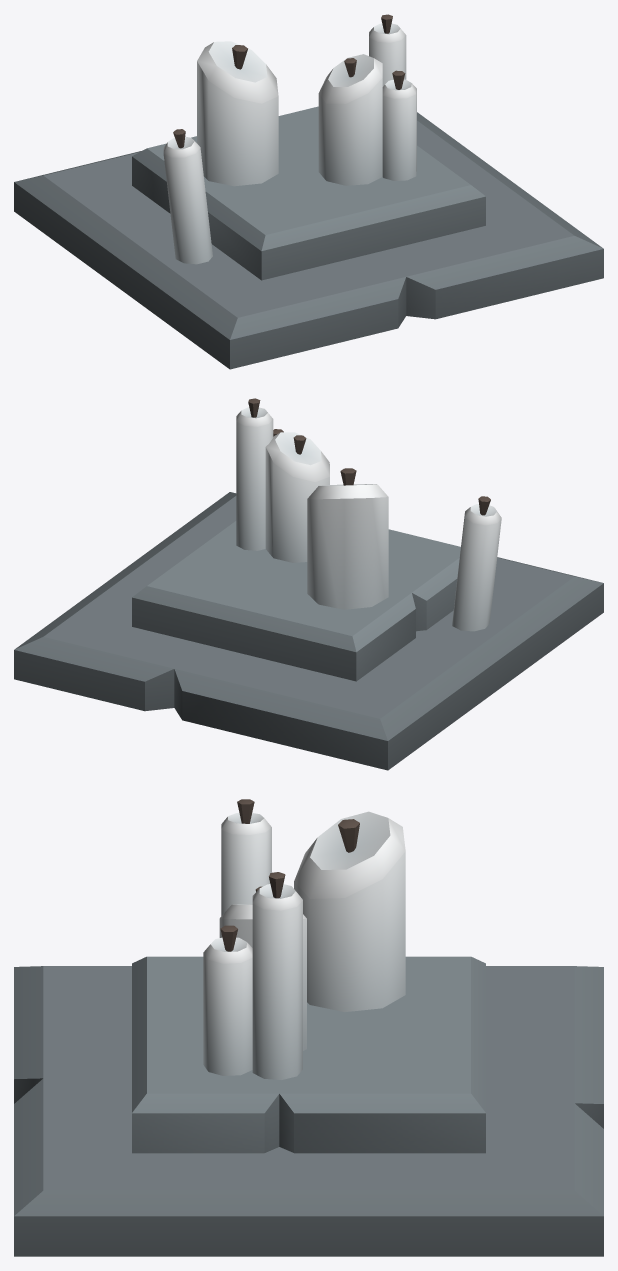
File: candelabra.glb
3 renders of one model, top to bottom at view 1: azimuth 30°, elevation 25°; view 2: azimuth 150°, elevation 25°; view 3: azimuth 270°, elevation 25°, orthographic. The views are drawn at different scales.
Parts seen in each view (by area): view 1: plaque_candles; view 2: plaque_candles; view 3: plaque_candles.
Boxes of the visible parts, x1=… form: plaque_candles: x1=14, y1=14, x2=603, y2=369; plaque_candles: x1=14, y1=398, x2=603, y2=770; plaque_candles: x1=14, y1=799, x2=603, y2=1256.
Size of the model in its own units: 2 by 1.13 by 2.
Materials: 1 (1 with a texture image).
